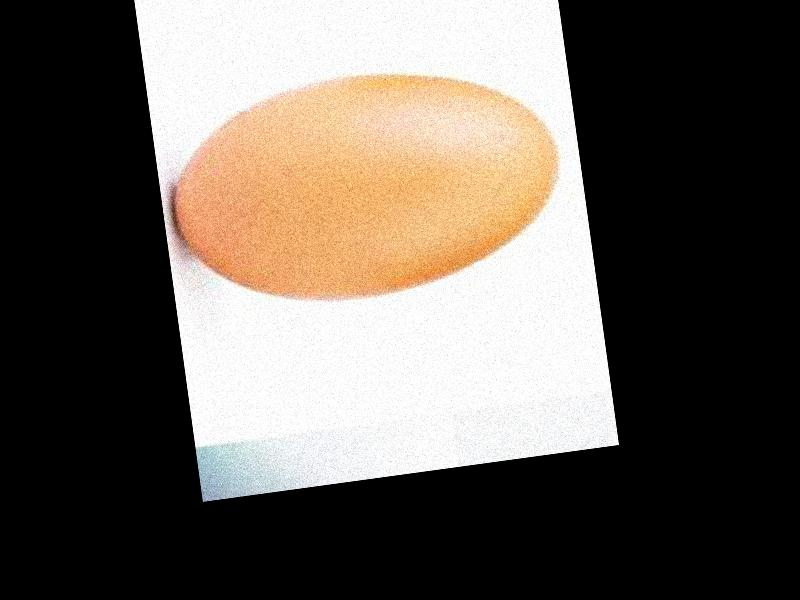Eggs: (160, 50, 571, 321)
